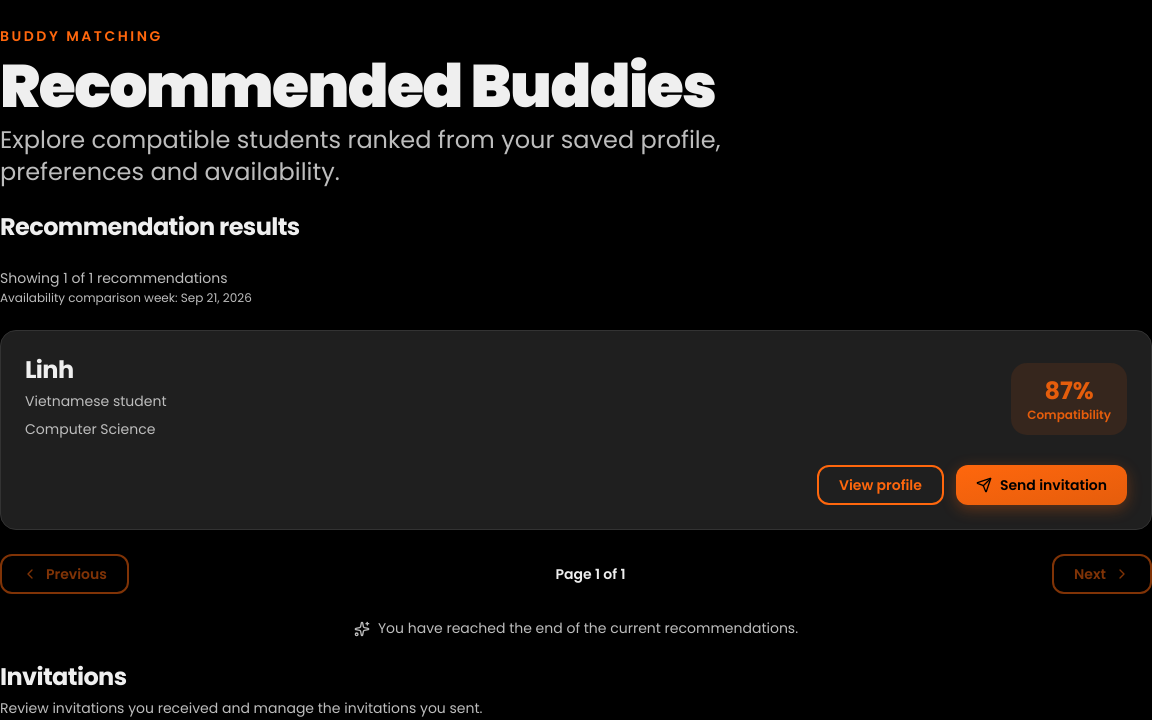
Test: REC-004 Recommended Buddies page › keeps long custom labels contained and falls back safely when an avatar cannot load
The image size is (1152, 720).
Click the button "View profile". click: (880, 485)
box: [817,465,944,505]
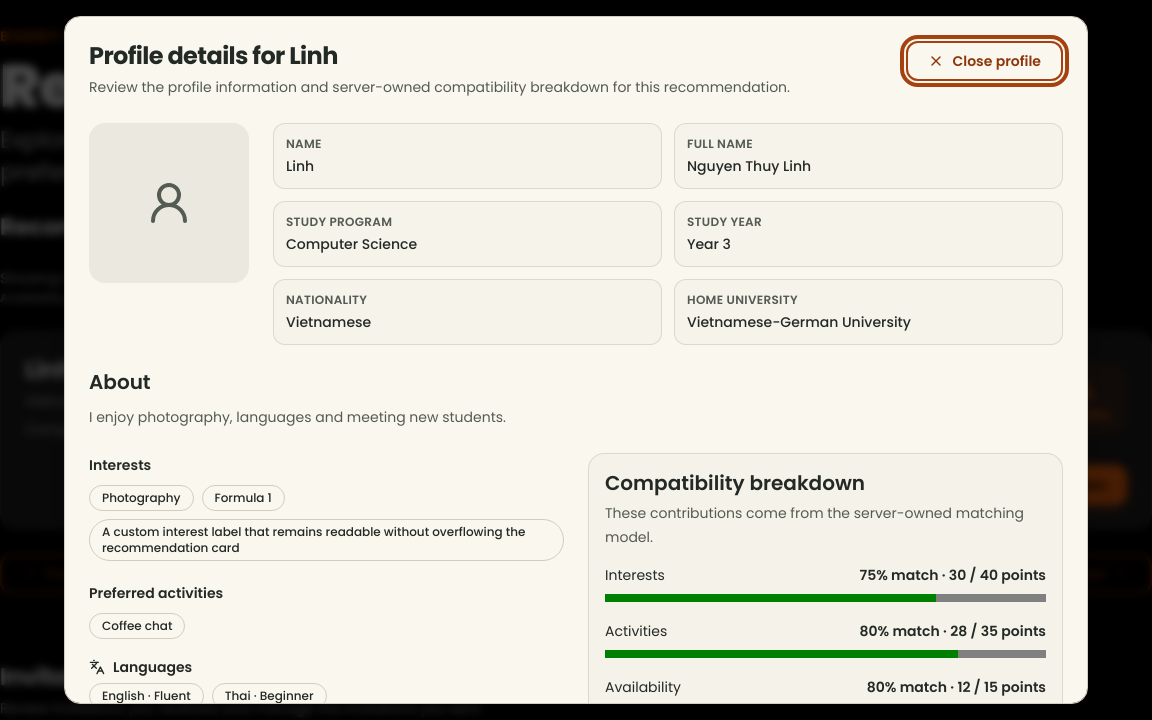
Expected: the picture named "Profile photo unavailable for Linh" is shown, [145,179,193,227]
